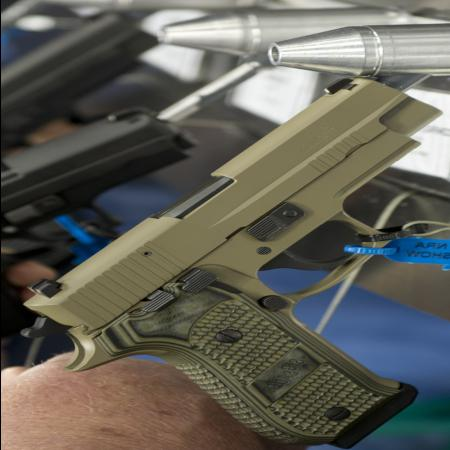Pistol: (19, 75, 440, 449)
